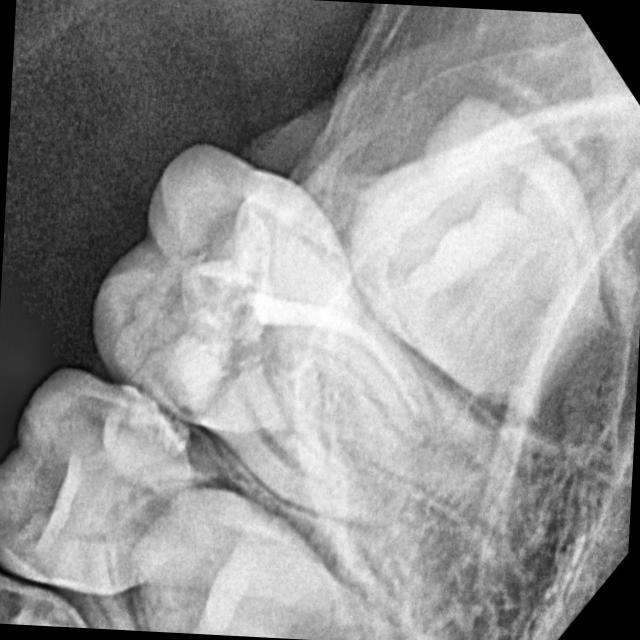Normal: (339, 15, 620, 453), (0, 336, 263, 632)
RCT: (200, 244, 434, 572)
